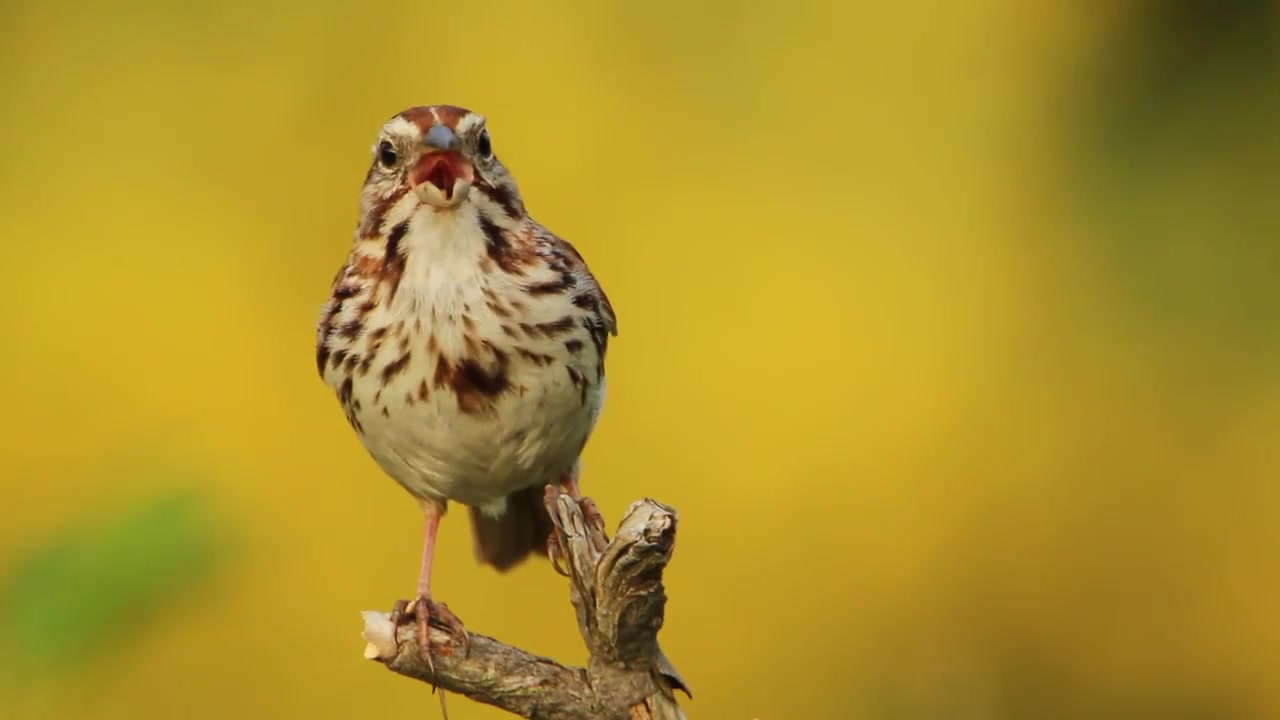bird: (318, 105, 613, 690)
